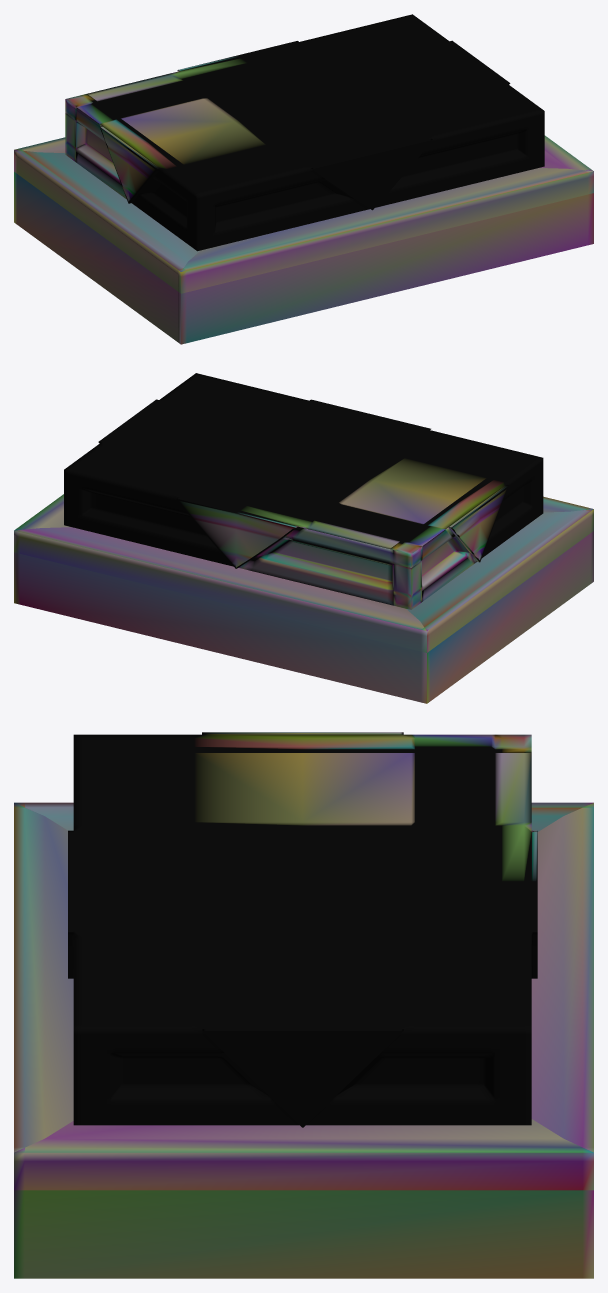
The model's file is CHN_FuDogBase01.gltf.
3 renders of one model, top to bottom at view 1: azimuth 30°, elevation 25°; view 2: azimuth 150°, elevation 25°; view 3: azimuth 270°, elevation 25°, orthographic. The views are drawn at different scales.
Parts seen in each view (by area): view 1: CHN_FuDogBase01; view 2: CHN_FuDogBase01; view 3: CHN_FuDogBase01.
Boxes of the visible parts, x1=… form: CHN_FuDogBase01: x1=14, y1=14, x2=593, y2=344; CHN_FuDogBase01: x1=14, y1=373, x2=593, y2=703; CHN_FuDogBase01: x1=14, y1=732, x2=593, y2=1278.
Bounding box in the file's own units: 14.57 × 4.33 × 10.21.
